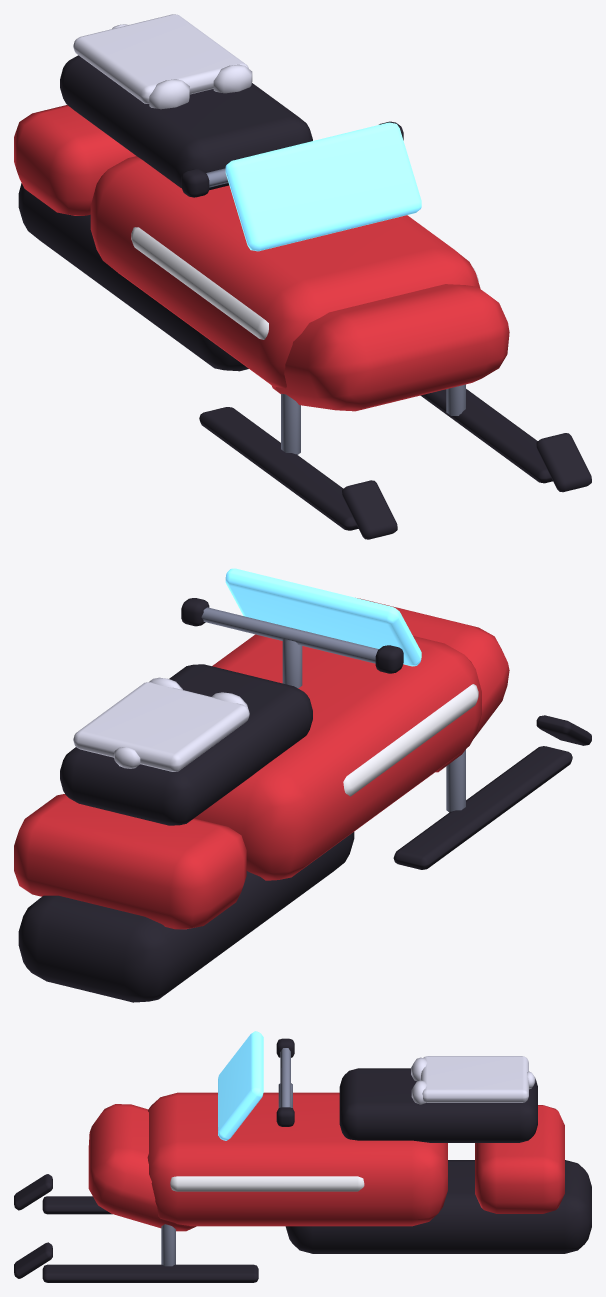
The model's file is frost_snowmobile.glb.
3 views of the same model, one above another, from view 1: azimuth 30°, elevation 25°; view 2: azimuth 150°, elevation 25°; view 3: azimuth 270°, elevation 25° (orthographic). The views are drawn at different scales.
Parts seen in each view (by area): view 1: Snowmobile; view 2: Snowmobile; view 3: Snowmobile.
Part boxes in pixels (x1,y1,x2,y2): Snowmobile: [14, 14, 591, 539]; Snowmobile: [14, 568, 591, 1002]; Snowmobile: [14, 1031, 591, 1282].
Bounding box in the file's own units: 1.06 × 1.13 × 3.21.
